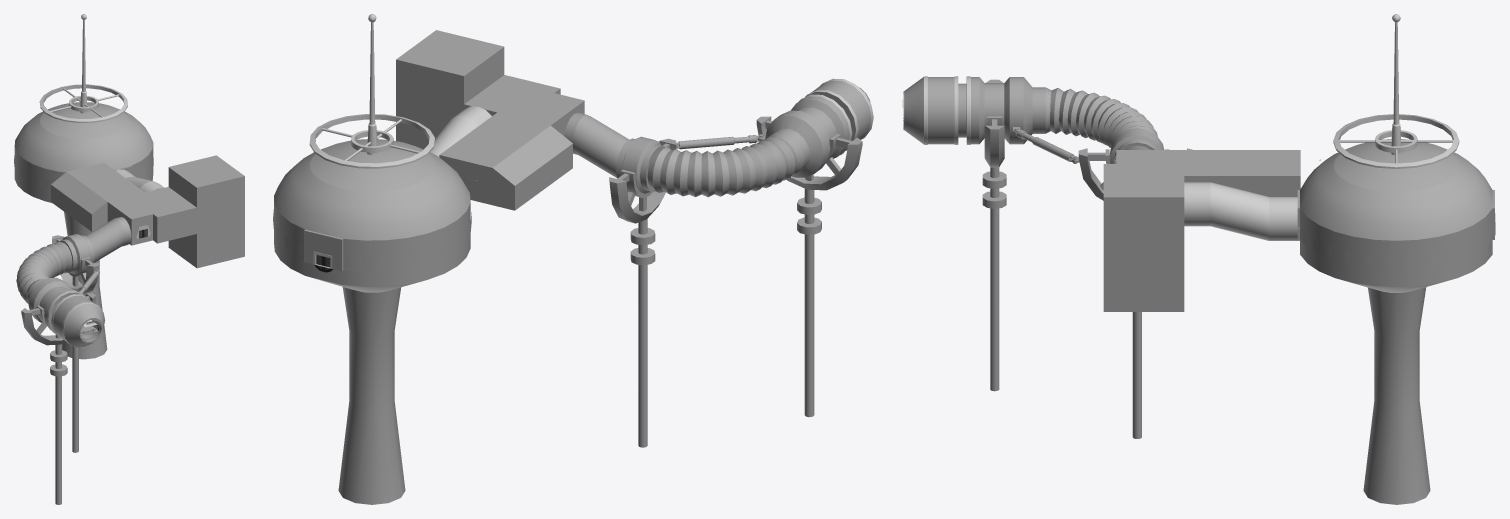
File: TutorialLevel.fbx
3 views of the same model, side by side, from view 1: azimuth 30°, elevation 25°; view 2: azimuth 150°, elevation 25°; view 3: azimuth 270°, elevation 25° (orthographic). The views are drawn at different scales.
Visible parts, largest first — view 1: Outside (×2), Outside1, TunnelShelf, Outside2, Wheel, BasePiller, OutSide2, TunnelOutside, Windows; view 2: Outside (×2), BasePiller, TunnelShelf, Outside1, Outside2, Wheel, Windows, TunnelOutside, DoorWall, OutSide2; view 3: Outside (×2), BasePiller, Outside1, TunnelShelf, TunnelOutside, Outside2, Wheel, Windows, OutSide2.
Boxes of the visible parts, x1,y1,x2,y2 form: Outside (×2): (14,102,244,268); Outside1: (27,217,131,347); TunnelShelf: (21,235,99,504); Outside2: (16,241,72,303); Wheel: (39,14,127,122); BasePiller: (62,212,107,359); OutSide2: (47,291,104,347); TunnelOutside: (116,169,164,192); Windows: (14,155,153,189); Outside (×2): (274,30,584,292); BasePiller: (338,287,405,504); TunnelShelf: (609,116,862,447); Outside1: (564,80,871,193); Outside2: (647,133,803,197); Wheel: (309,14,434,168); Windows: (273,209,471,268); TunnelOutside: (430,106,491,156); DoorWall: (304,229,343,270); OutSide2: (799,78,873,154); Outside (×2): (1103,139,1492,311); BasePiller: (1363,287,1430,504); Outside1: (904,77,1164,163); TunnelShelf: (982,79,1192,438); TunnelOutside: (1184,182,1299,240); Outside2: (1045,87,1157,147); Wheel: (1333,14,1459,168); Windows: (1300,225,1492,268); OutSide2: (923,76,970,144).
Size of the model in its own units: 126 by 158 by 173.
